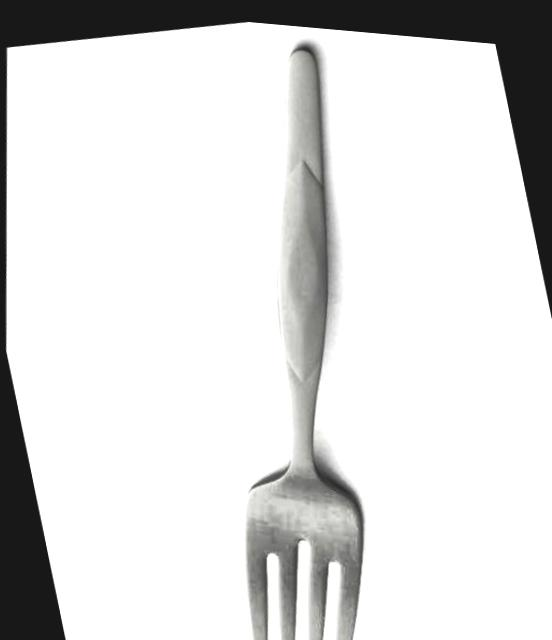Fork: (244, 49, 362, 639)
